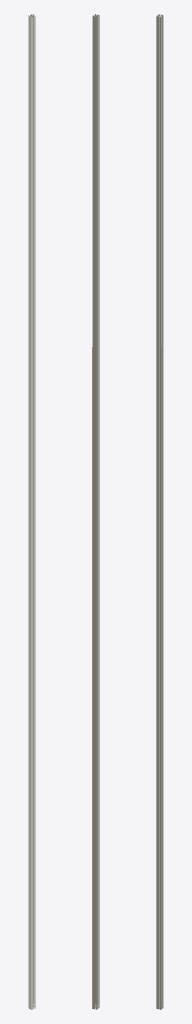
Rendered from 317cad9f-9407-424a-866b-fd01c414df84_model.glb.
3 renders of one model, left to right at view 1: azimuth 30°, elevation 25°; view 2: azimuth 150°, elevation 25°; view 3: azimuth 330°, elevation 25°, orthographic.
Parts seen in each view (by area): view 1: wall_23, wall_11, wall_26, wall_27, wall_10, wall_22, wall_3; view 2: wall_7, wall_11, wall_3, wall_23, wall_22, wall_4, wall_27, door_0, wall_10; view 3: wall_10, wall_22, wall_23, wall_24, wall_26, wall_25, wall_27, door_1, door_2, wall_7.
Part boxes in pixels (x1,y1,x2,y2): wall_23: [30, 16, 32, 1009]; wall_11: [29, 15, 31, 1008]; wall_26: [32, 17, 33, 1009]; wall_27: [34, 16, 35, 1008]; wall_10: [32, 14, 34, 1007]; wall_22: [32, 15, 33, 1008]; wall_3: [28, 15, 28, 1007]; wall_7: [93, 16, 95, 1009]; wall_11: [96, 15, 98, 1008]; wall_3: [96, 17, 97, 1009]; wall_23: [97, 15, 99, 1007]; wall_22: [95, 14, 97, 1007]; wall_4: [96, 16, 96, 1008]; wall_27: [95, 14, 95, 1006]; door_0: [92, 347, 92, 1008]; wall_10: [92, 15, 93, 346]; wall_10: [161, 15, 163, 1008]; wall_22: [158, 16, 160, 1009]; wall_23: [156, 16, 158, 1008]; wall_24: [160, 17, 161, 1009]; wall_26: [157, 16, 158, 1008]; wall_25: [159, 17, 159, 1009]; wall_27: [160, 17, 160, 1009]; door_1: [161, 347, 161, 1008]; door_2: [161, 348, 161, 1009]; wall_7: [160, 14, 162, 347].
Size of the model in its own units: 0.0154 by 3 by 0.0158.
